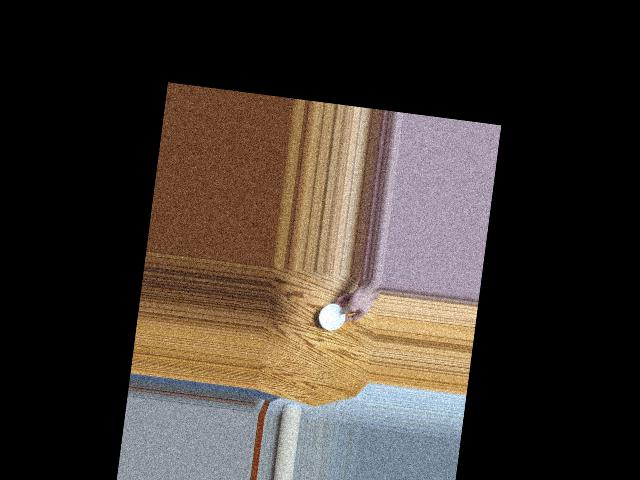cotage: (317, 300, 348, 331)
